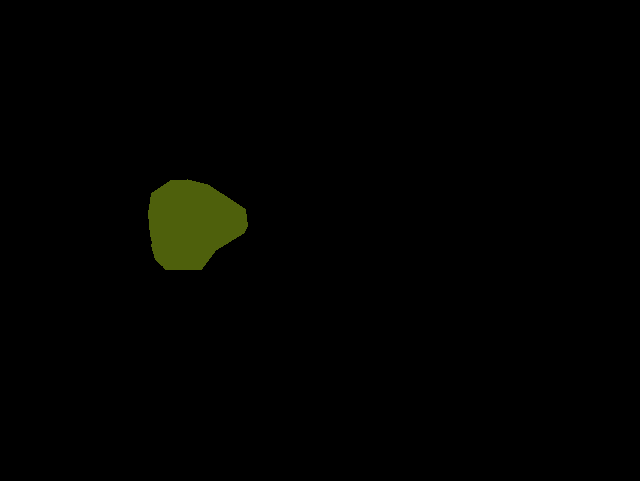Train: (148, 179, 247, 270)
